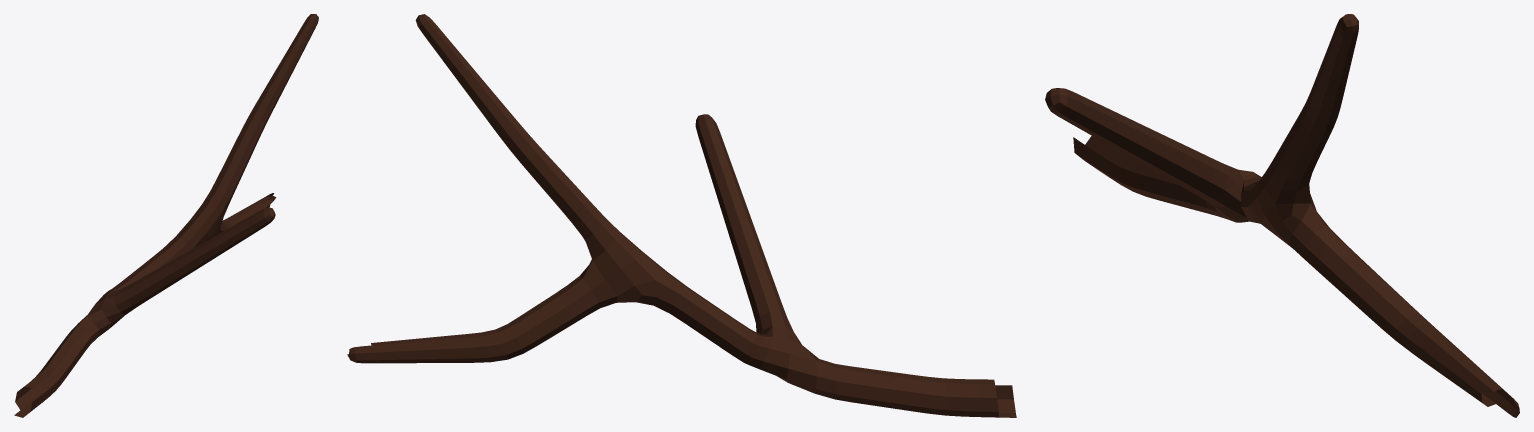
Rendered from branch.fbx.
3 views of the same model, side by side, from view 1: azimuth 30°, elevation 25°; view 2: azimuth 150°, elevation 25°; view 3: azimuth 270°, elevation 25° (orthographic). The views are drawn at different scales.
Visible parts, largest first — view 1: tree2.001; view 2: tree2.001; view 3: tree2.001.
Part boxes in pixels (x1,y1,x2,y2): tree2.001: [14, 14, 318, 417]; tree2.001: [347, 14, 1016, 417]; tree2.001: [1045, 14, 1519, 417].
Size of the model in its own units: 1664 by 1093 by 1015.
